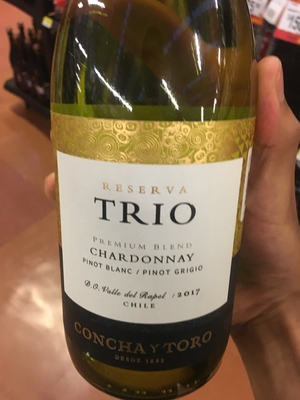trio chardonnay: (41, 5, 265, 400)
